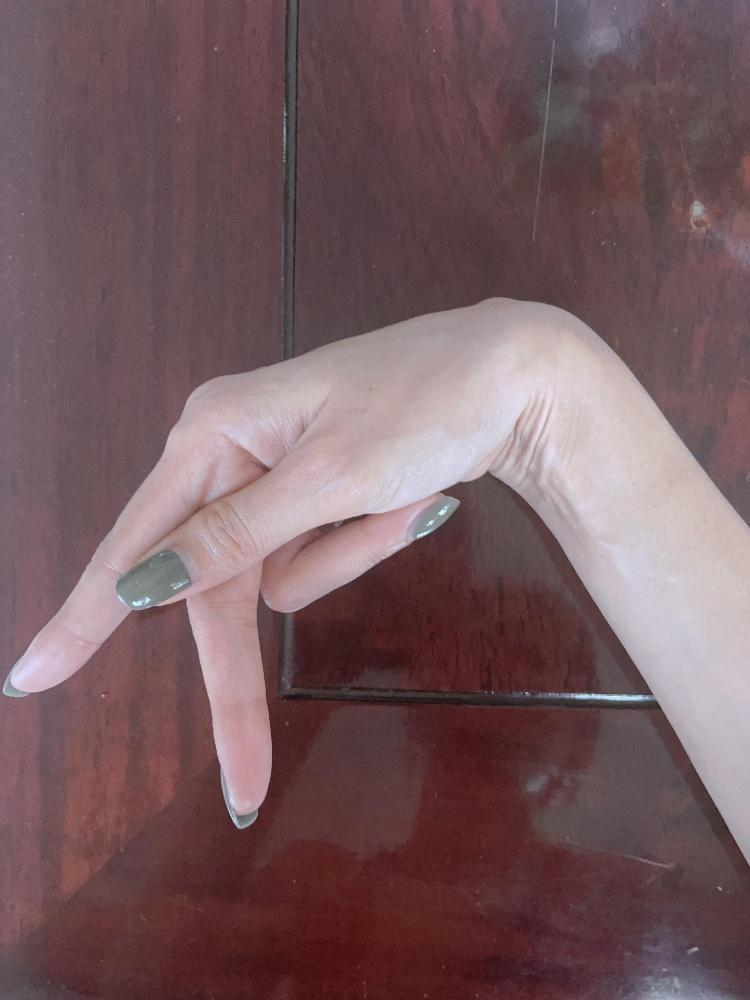p: (6, 291, 539, 822)
